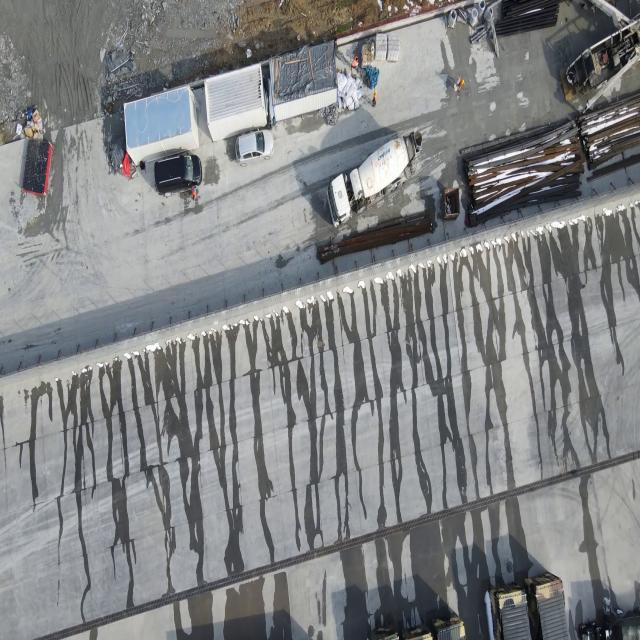p3rson: (456, 77, 465, 91), (351, 55, 358, 71), (372, 88, 377, 106), (333, 36, 338, 52), (192, 186, 196, 200)
